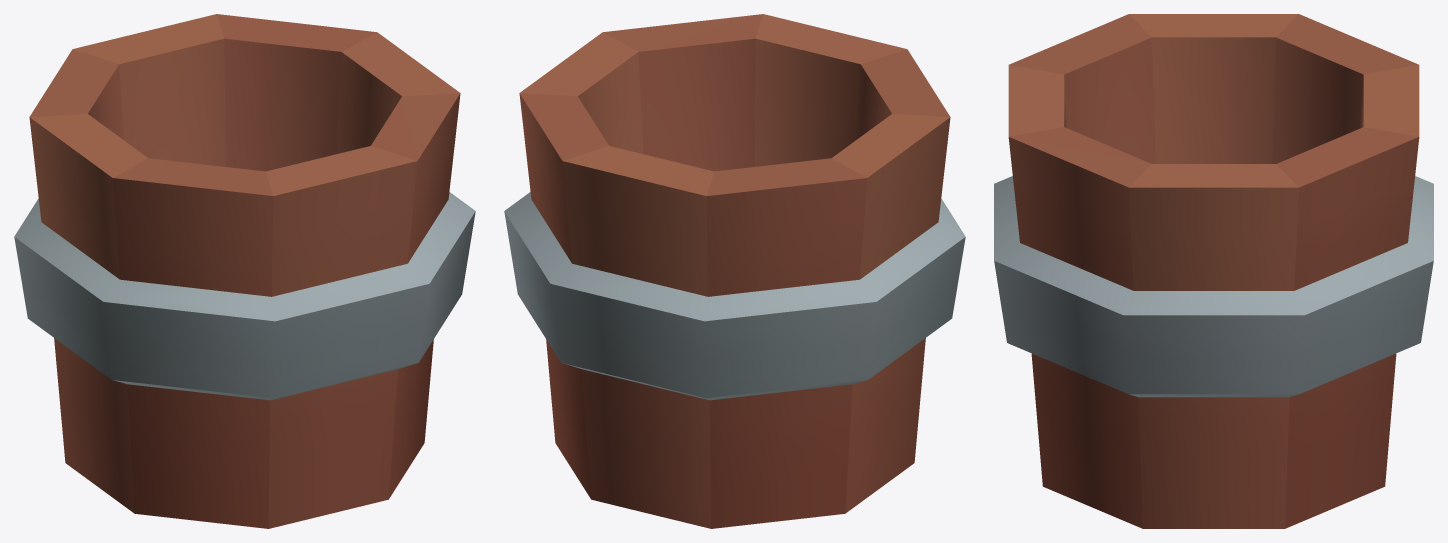
File: kay-balde-vazio.gltf
The picture shows the model from 3 angles, left to right: view 1: azimuth 30°, elevation 25°; view 2: azimuth 150°, elevation 25°; view 3: azimuth 270°, elevation 25°; orthographic projection. The views are drawn at different scales.
Visible parts, largest first — view 1: bucket_empty; view 2: bucket_empty; view 3: bucket_empty.
Part boxes in pixels (x1,y1,x2,y2): bucket_empty: (14, 14, 475, 528); bucket_empty: (504, 14, 965, 528); bucket_empty: (994, 14, 1433, 528).
Bounding box in the file's own units: 0.7 × 0.625 × 0.7.
Materials: 1 (1 with a texture image).
